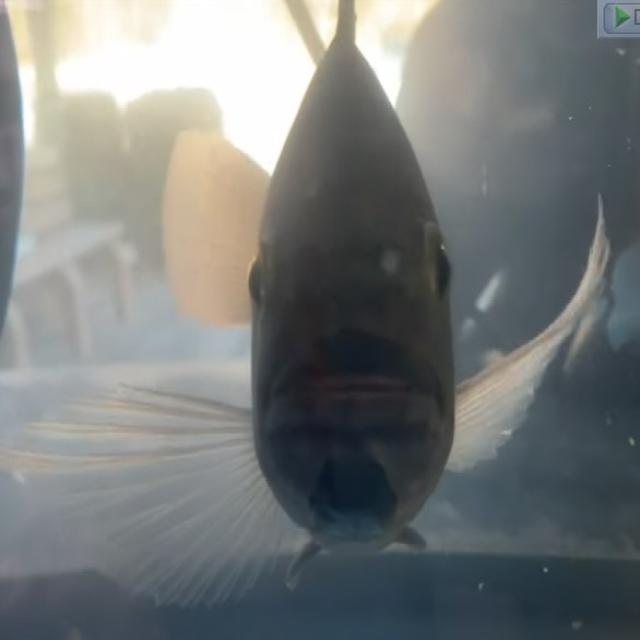ikan: (2, 0, 618, 609)
